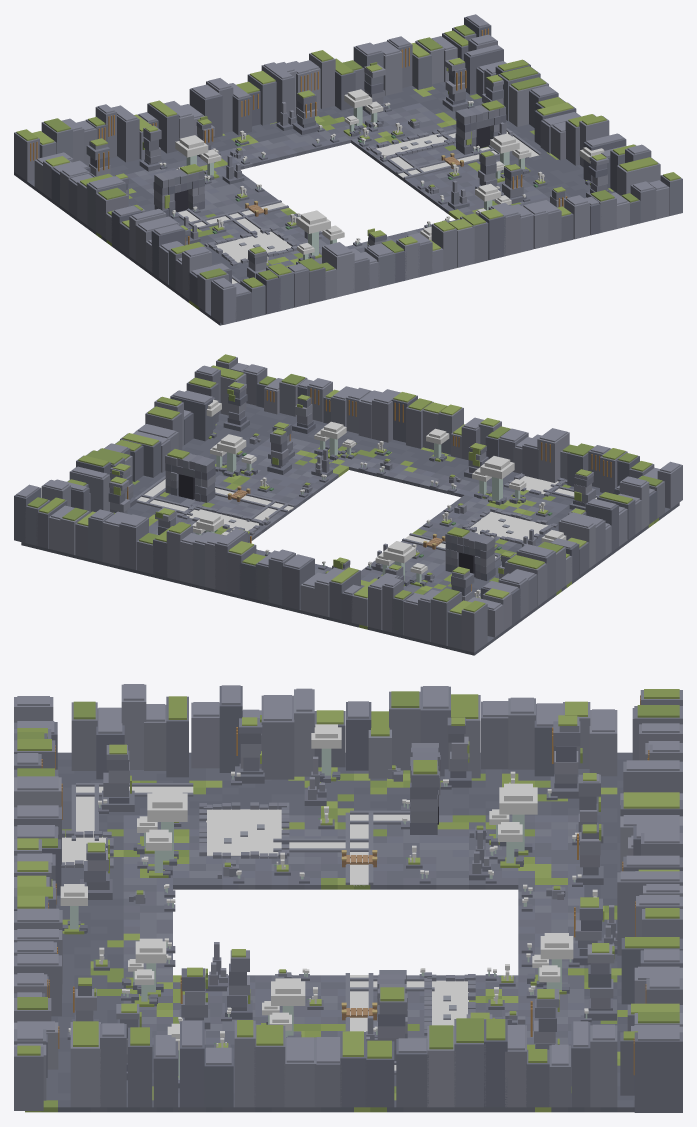
The model's file is bogheart_caverns_outer_arena_roblox.glb.
3 renders of one model, top to bottom at view 1: azimuth 30°, elevation 25°; view 2: azimuth 150°, elevation 25°; view 3: azimuth 270°, elevation 25°, orthographic. The views are drawn at different scales.
Parts seen in each view (by area): view 1: Ground_NE, Ground_NW, Ground_SE, Ground_SW, Cave_001, Cave_002, Wall_085, Wall_008, Wall_076, Wall_001, Wall_014, Wall_077 (+84 smaller); view 2: Ground_SE, Ground_SW, Ground_NW, Ground_NE, Cave_002, Cave_001, Wall_085, Wall_014, Wall_001, Wall_003, Wall_026, GlowWater_002 (+85 smaller); view 3: Ground_NW, Ground_SW, Ground_SE, Ground_NE, Wall_034, GlowWater_002, Wall_062, Wall_047, Cave_001, Wall_076, Wall_069, Wall_063 (+100 smaller).
Boxes of the visible parts, x1,y1,x2,y2 form: Ground_NE: (252, 81, 537, 179); Ground_NW: (14, 128, 288, 249); Ground_SE: (397, 144, 615, 238); Ground_SW: (117, 208, 401, 325); Cave_001: (153, 164, 204, 216); Cave_002: (455, 100, 506, 154); Wall_085: (322, 242, 354, 297); Wall_008: (111, 105, 139, 162); Wall_076: (617, 157, 660, 195); Wall_001: (14, 129, 39, 181); Wall_014: (189, 84, 222, 138); Wall_077: (211, 278, 236, 324); Ground_SE: (157, 403, 448, 510); Ground_SW: (411, 454, 679, 580); Ground_NW: (252, 541, 576, 655); Ground_NE: (21, 475, 292, 601); Cave_002: (165, 449, 215, 502); Cave_001: (445, 527, 495, 580); Wall_085: (537, 428, 569, 482); Wall_014: (282, 554, 314, 609); Wall_001: (461, 600, 487, 652); Wall_003: (430, 588, 461, 645); Wall_026: (119, 514, 148, 569); GlowWater_002: (470, 511, 548, 540); Ground_NW: (354, 752, 632, 926); Ground_SW: (56, 752, 353, 926); Ground_SE: (25, 926, 353, 1112); Ground_NE: (354, 926, 634, 1112); Wall_034: (633, 1031, 682, 1112); GlowWater_002: (206, 809, 282, 855); Wall_062: (454, 1018, 486, 1107); Wall_047: (261, 695, 294, 779); Cave_001: (410, 743, 440, 834); Wall_076: (70, 1021, 100, 1107); Wall_069: (254, 1025, 285, 1107); Wall_063: (427, 1025, 455, 1107).
Size of the model in its own units: 155 by 16.25 by 122.
